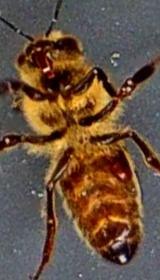varroa_mite: (106, 153, 134, 186)
